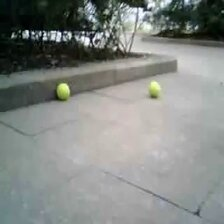tennis: (56, 83, 70, 99), (148, 80, 160, 97)
